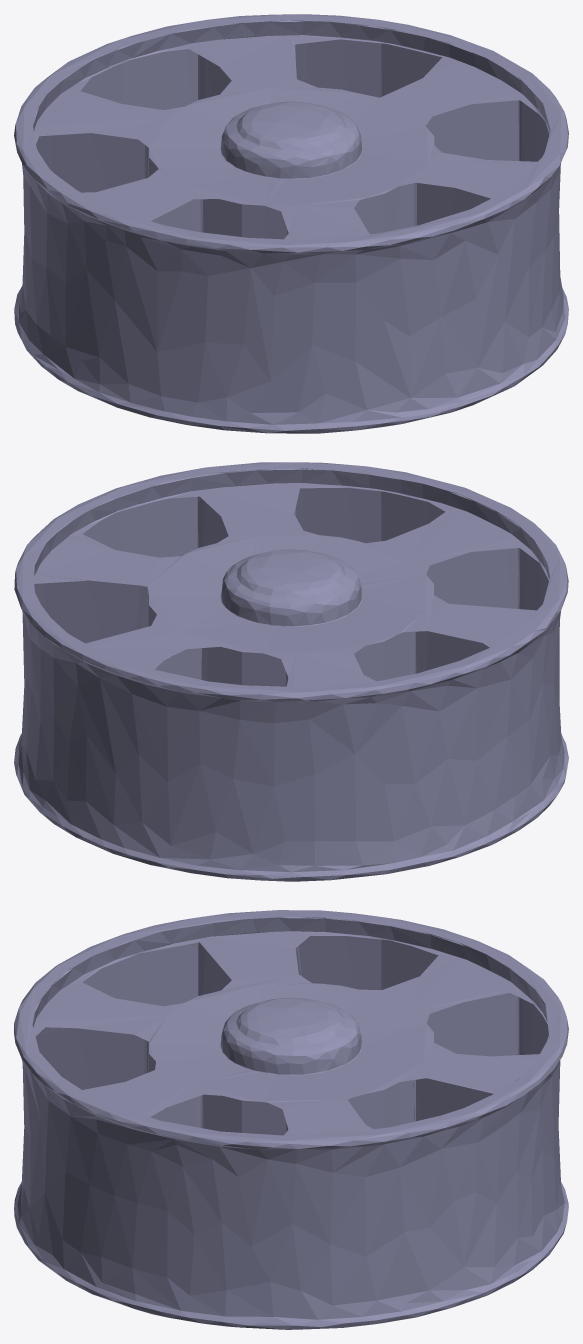
The model's file is idler_LowPoly.obj.
The picture shows the model from 3 angles, top to bottom: view 1: azimuth 30°, elevation 25°; view 2: azimuth 150°, elevation 25°; view 3: azimuth 270°, elevation 25°; orthographic projection.
Visible parts, largest first — view 1: idler_LowPoly\Facets; view 2: idler_LowPoly\Facets; view 3: idler_LowPoly\Facets.
Part boxes in pixels (x1,y1,x2,y2): idler_LowPoly\Facets: (14,14,568,433); idler_LowPoly\Facets: (14,462,568,881); idler_LowPoly\Facets: (14,910,568,1329).
Bounding box in the file's own units: 0.6067 × 0.2406 × 0.6066.
